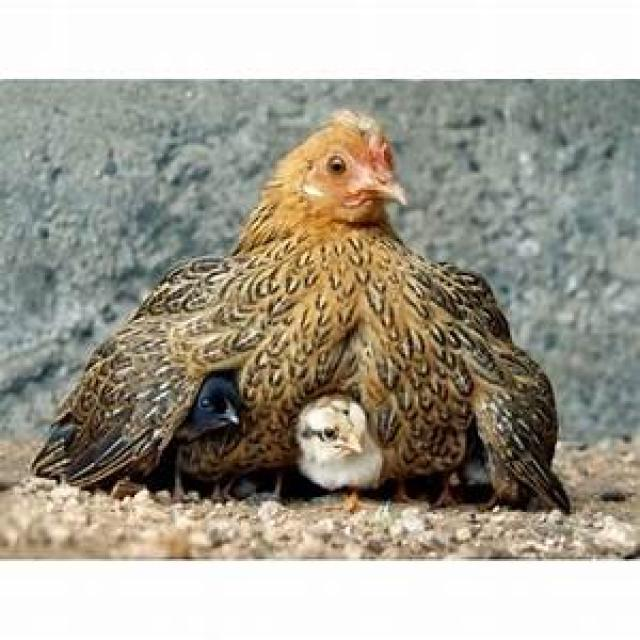hen: (32, 111, 572, 514)
